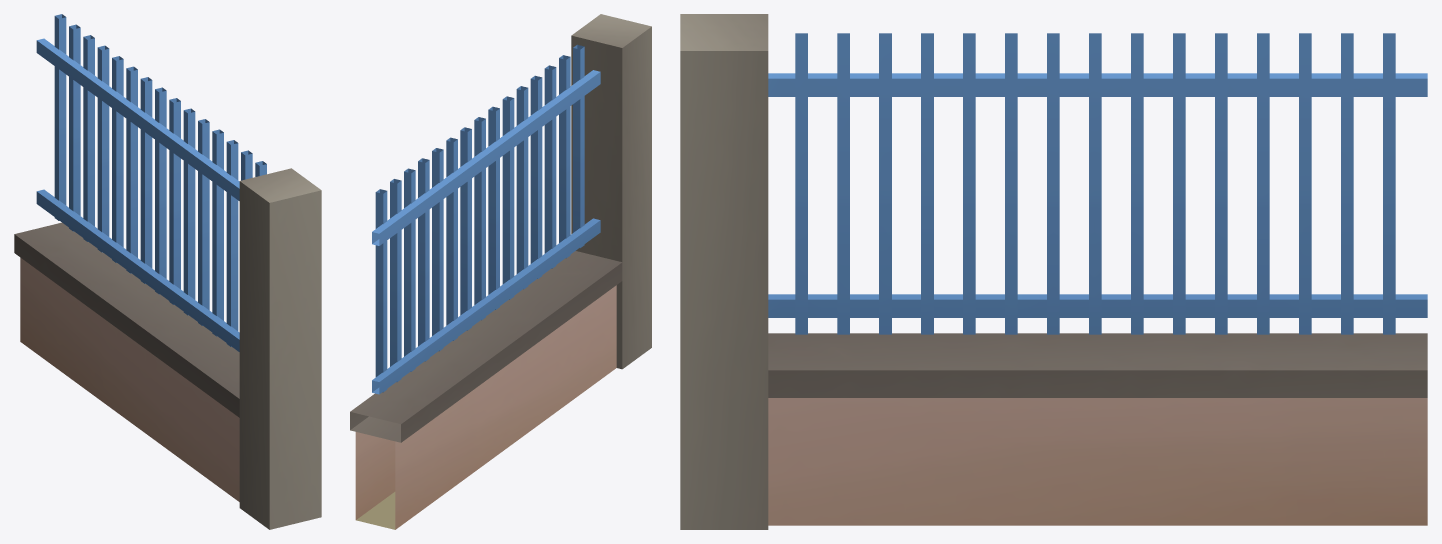
File: SM_Fence_1.fbx
3 renders of one model, left to right at view 1: azimuth 30°, elevation 25°; view 2: azimuth 150°, elevation 25°; view 3: azimuth 270°, elevation 25°, orthographic. The views are drawn at different scales.
Parts seen in each view (by area): view 1: Cube.002; view 2: Cube.002; view 3: Cube.002.
Part boxes in pixels (x1=…): Cube.002: x1=14, y1=14, x2=321, y2=529; Cube.002: x1=350, y1=14, x2=651, y2=529; Cube.002: x1=680, y1=14, x2=1427, y2=529.
Bounding box in the file's own units: 0.2933 × 1.77 × 2.49.
